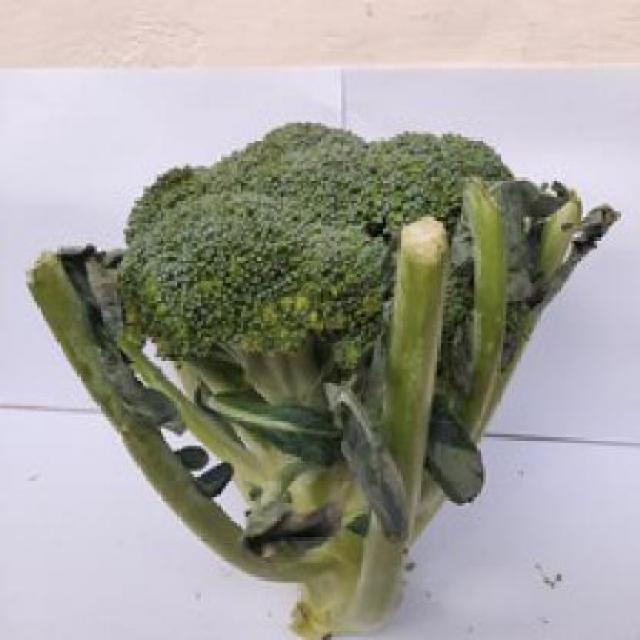broccoli: (68, 123, 598, 632)
